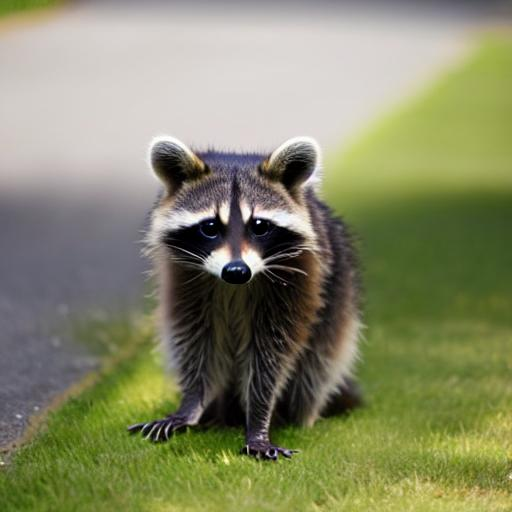raccoon: (138, 124, 381, 425)
